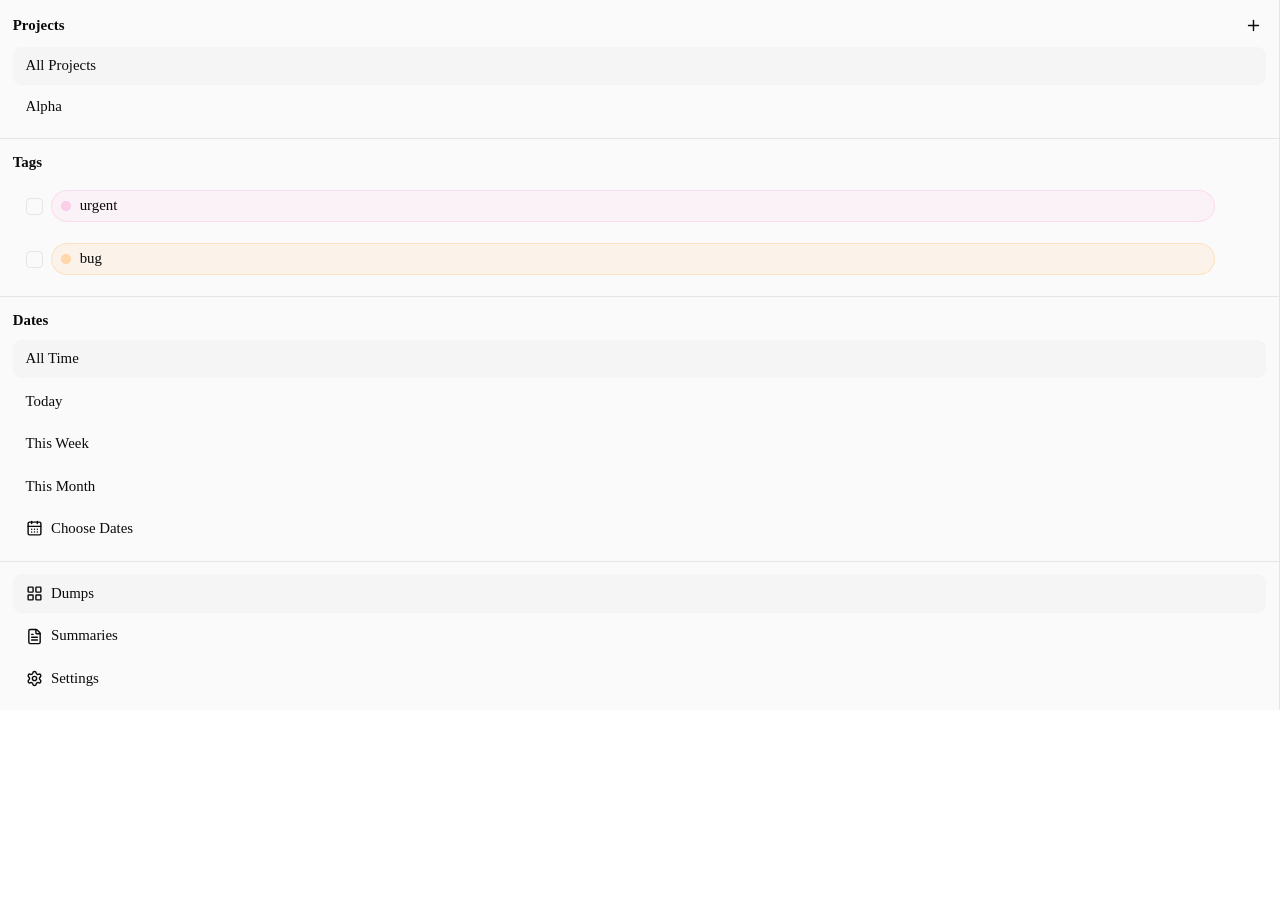
Test: Sidebar › shows the app-styled project delete confirmation dialog
The width and height of the screenshot is (1280, 900).
Right-click the button titled "Alpha" at (44, 106), box [13,87,1266,125]
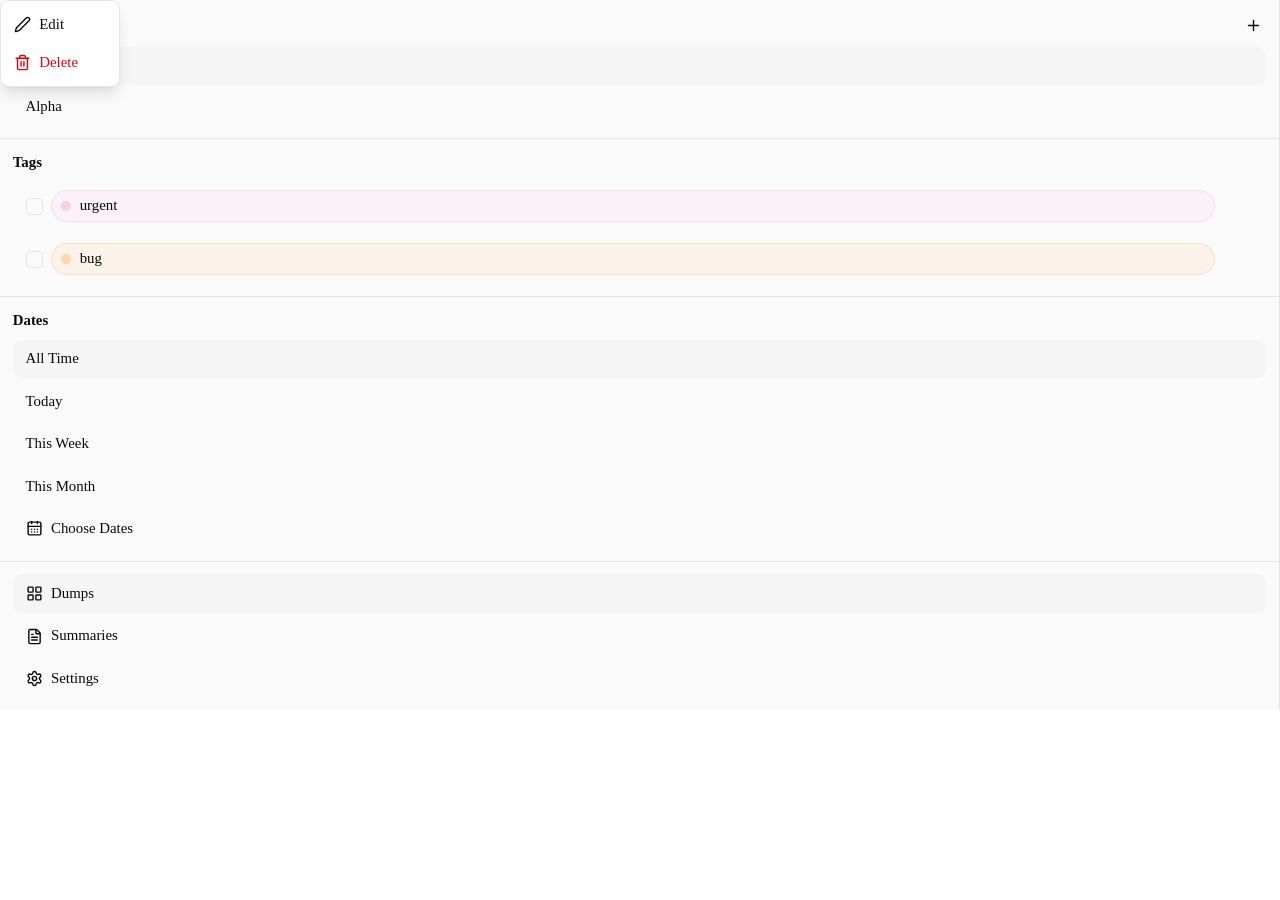
Click the button "Delete" at (60, 63), box [1,44,119,82]
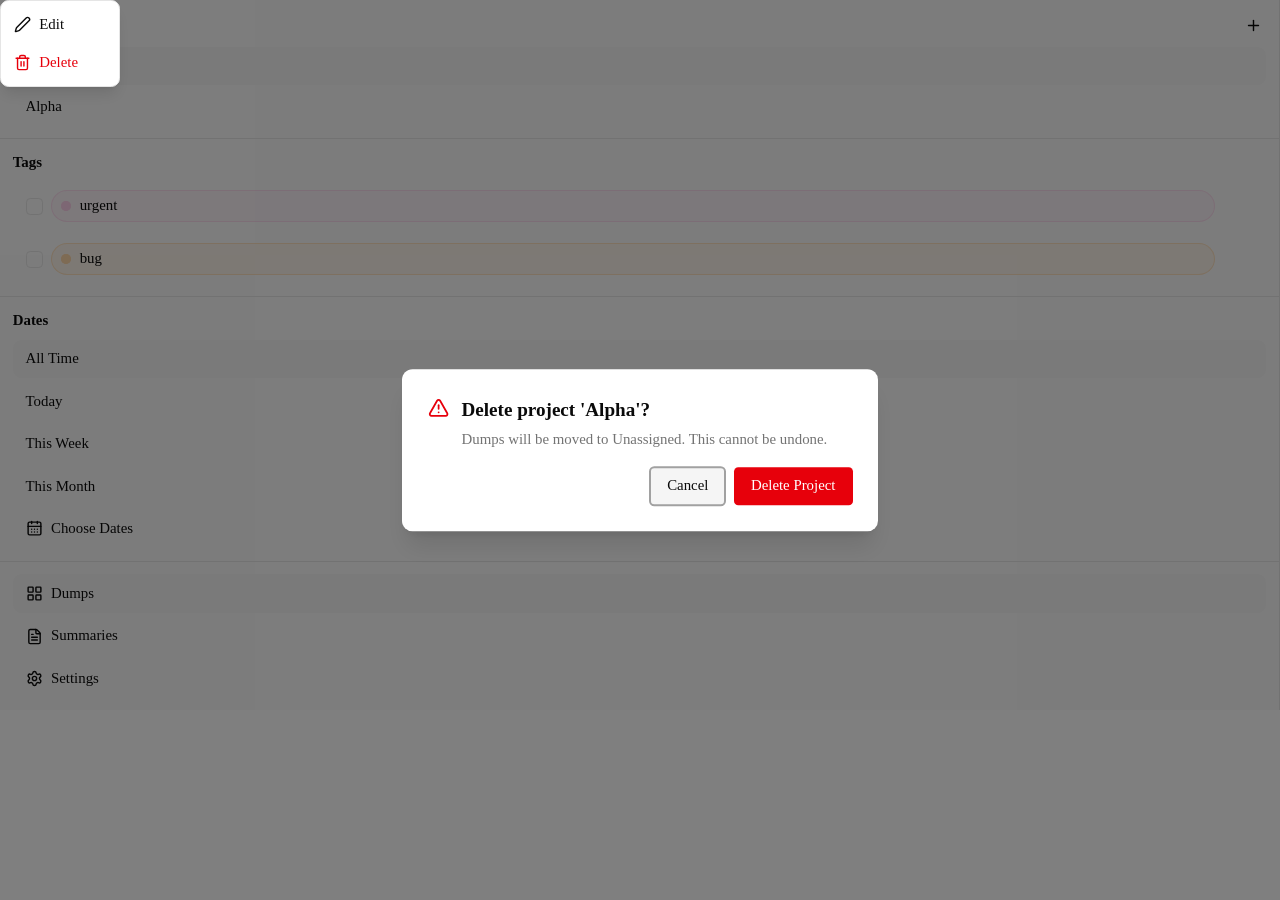
Result: the heading "Delete project 'Alpha'?" is shown at [462,399,650,420]
Result: the text "Dumps will be moved to Unassigned. This cannot be undone." is shown at [462,429,852,450]
